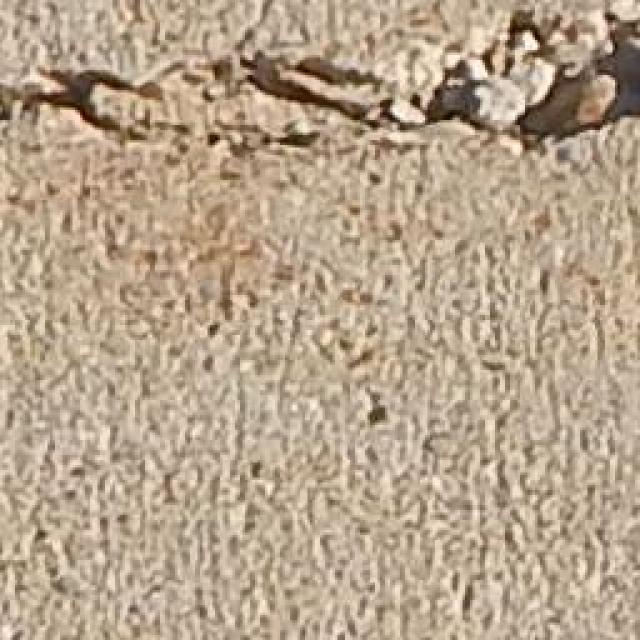concrete-crack: (0, 0, 640, 162)
